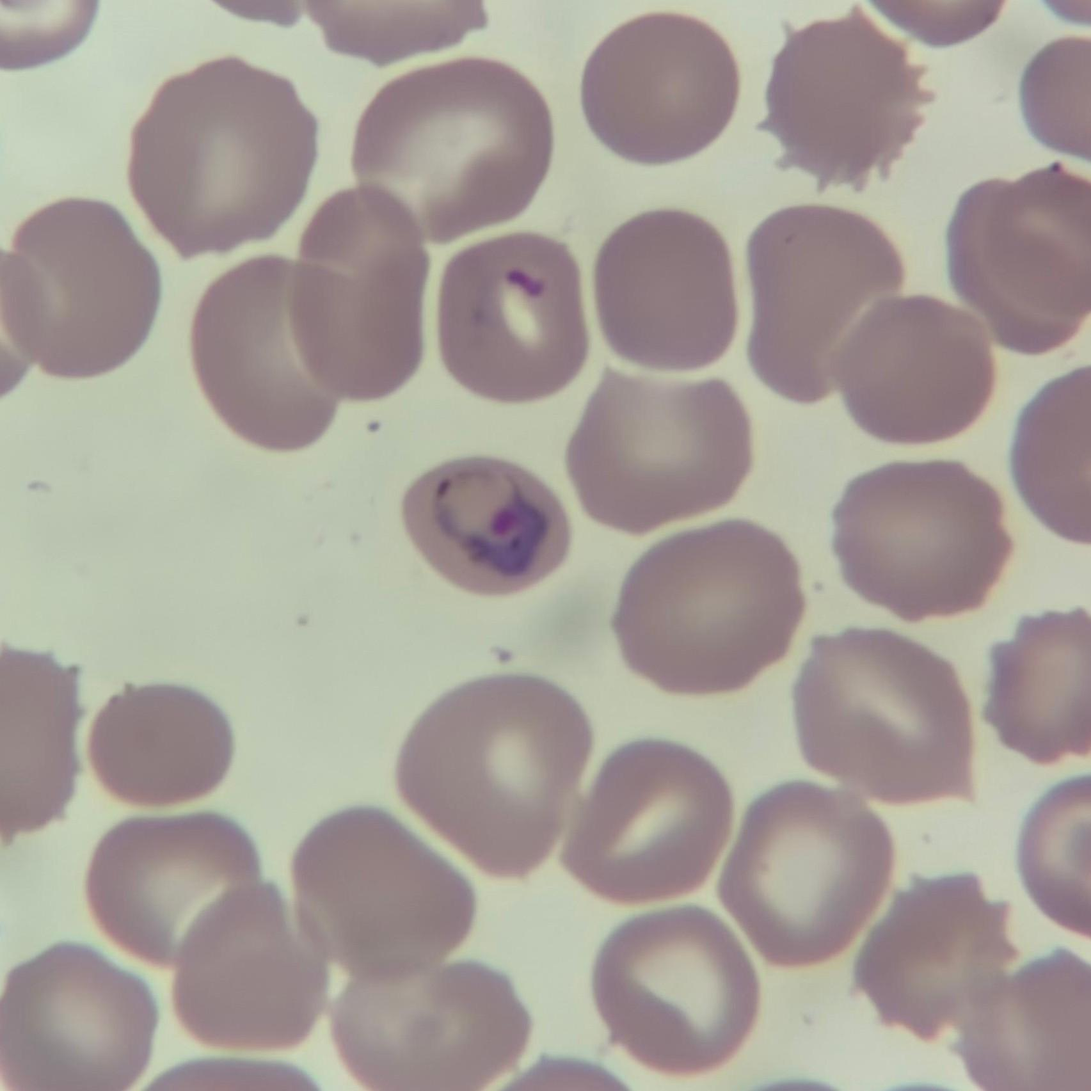Infected: (397, 452, 578, 602)
Uninfected: (131, 52, 316, 261), (403, 670, 591, 869), (358, 59, 561, 239), (573, 369, 755, 549), (742, 209, 913, 399), (787, 631, 977, 801), (720, 779, 889, 969), (192, 254, 350, 457), (298, 804, 474, 976), (611, 529, 802, 687), (298, 180, 429, 408), (0, 196, 164, 374), (835, 465, 1007, 632), (435, 228, 589, 410), (848, 871, 1013, 1035), (563, 743, 732, 903), (601, 906, 753, 1078), (166, 884, 326, 1044), (86, 811, 252, 963), (829, 292, 990, 446), (337, 961, 526, 1091), (771, 11, 919, 177), (582, 14, 742, 162), (595, 212, 736, 378), (944, 177, 1069, 350), (86, 679, 239, 805), (998, 167, 1091, 320)
